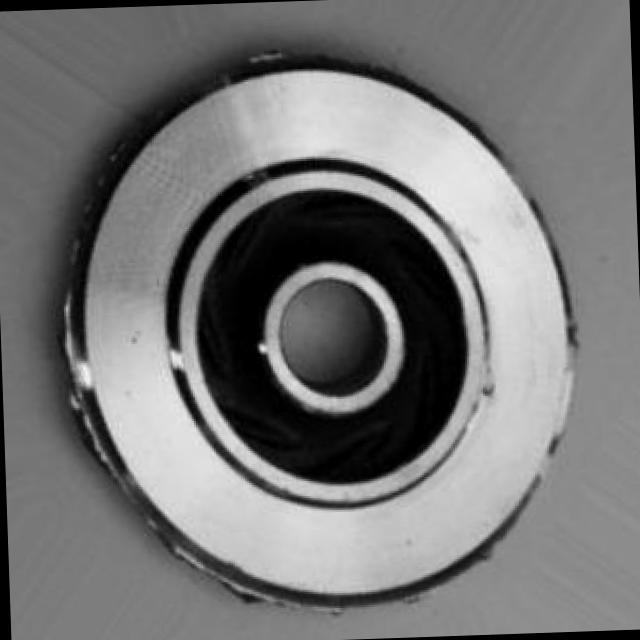Defect: (40, 326, 99, 432)
